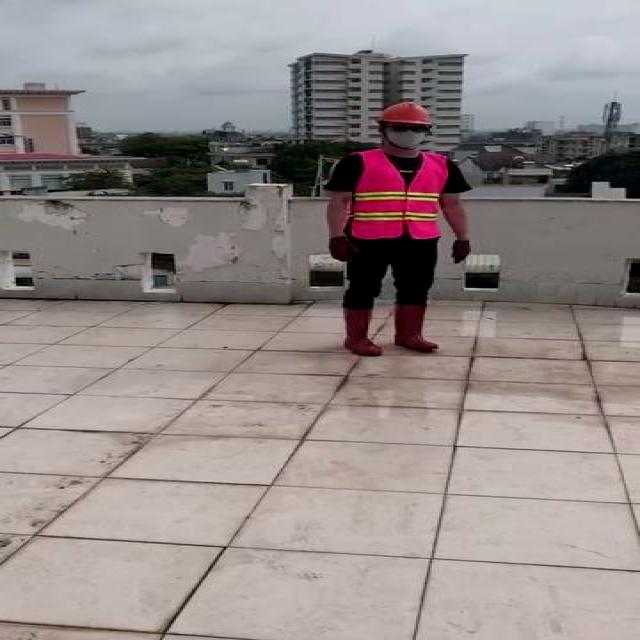boots: (391, 306, 437, 353), (341, 307, 384, 356)
face_mask: (383, 122, 428, 148)
glasses: (385, 123, 429, 135)
hand_glove: (329, 237, 363, 262), (448, 240, 473, 265)
head_helmet: (377, 102, 435, 124)
person: (318, 97, 475, 359)
vest: (345, 152, 448, 240)
